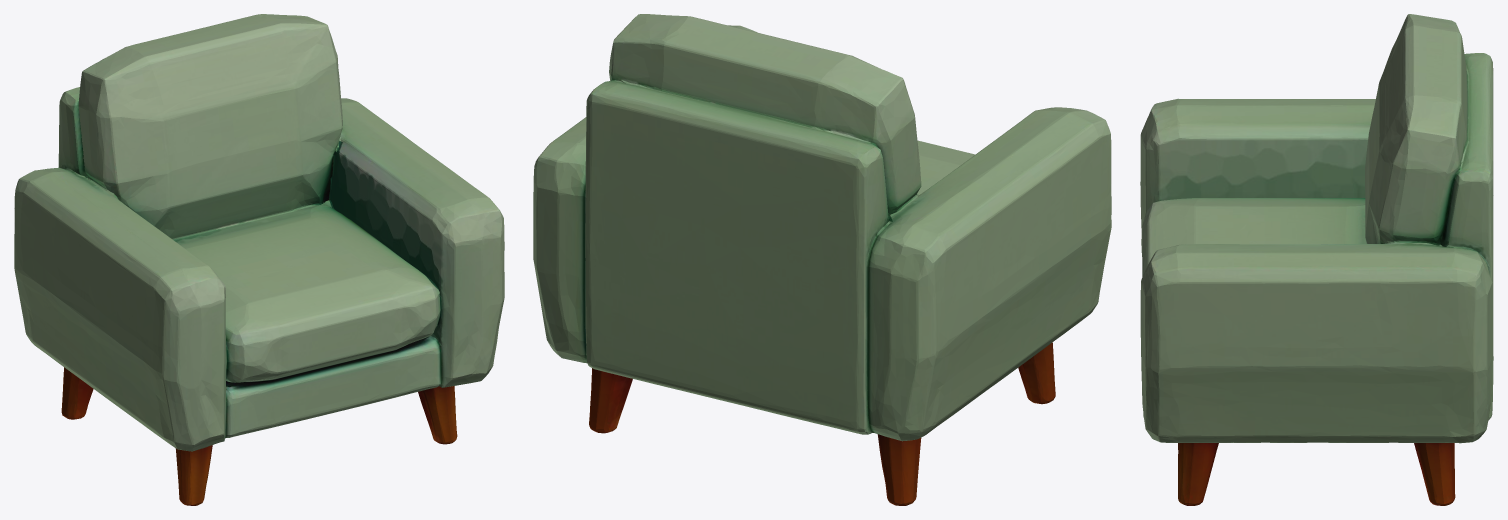
File: armchair.glb
3 renders of one model, left to right at view 1: azimuth 30°, elevation 25°; view 2: azimuth 150°, elevation 25°; view 3: azimuth 270°, elevation 25°, orthographic. The views are drawn at different scales.
Visible parts, largest first — view 1: tmp9aarq_w_.ply; view 2: tmp9aarq_w_.ply; view 3: tmp9aarq_w_.ply.
Part boxes in pixels (left/top/right/bottom): tmp9aarq_w_.ply: left=14, top=14, right=504, bottom=505; tmp9aarq_w_.ply: left=533, top=14, right=1111, bottom=505; tmp9aarq_w_.ply: left=1140, top=14, right=1493, bottom=505.
Size of the model in its own units: 0.9734 by 0.96 by 0.8165.
Materials: 1 (1 with a texture image).
